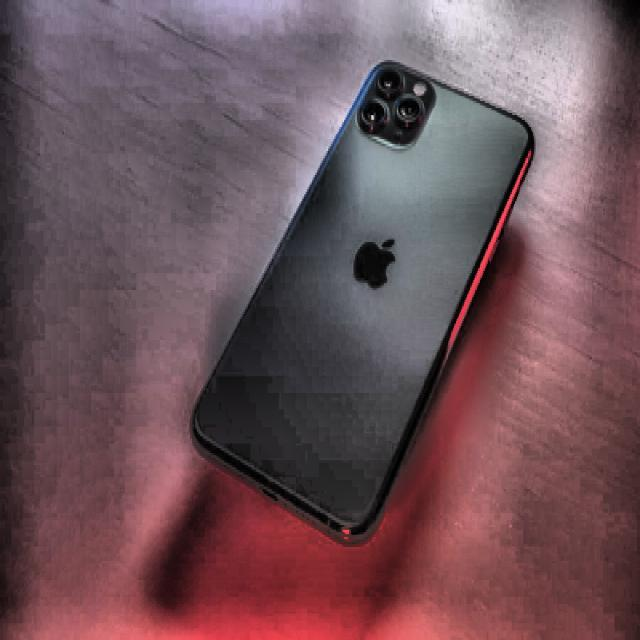Phone: (188, 58, 534, 544)
